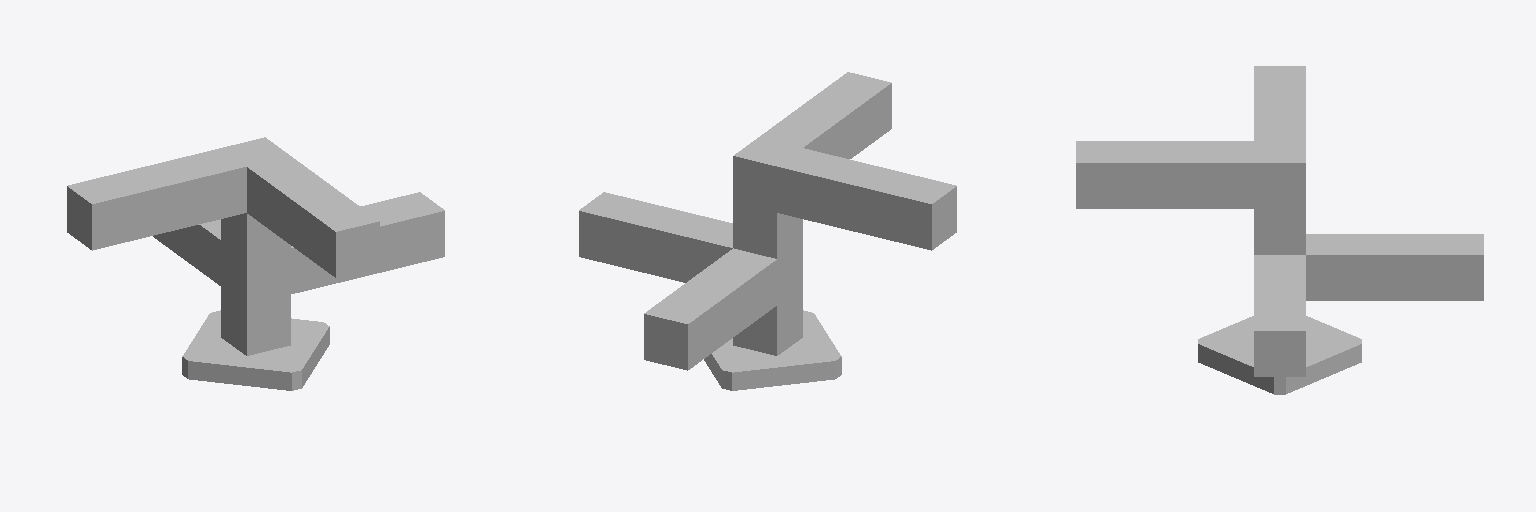
Rendered from obs0.obj.
The picture shows the model from 3 angles: view 1: azimuth 30°, elevation 25°; view 2: azimuth 150°, elevation 25°; view 3: azimuth 270°, elevation 25°; orthographic projection.
Visible parts, largest first — view 1: ob0_Cube.029; view 2: ob0_Cube.029; view 3: ob0_Cube.029.
Part boxes in pixels (x1,y1,x2,y2): ob0_Cube.029: (67, 137, 444, 390); ob0_Cube.029: (579, 72, 956, 390); ob0_Cube.029: (1076, 66, 1483, 394).
Size of the model in its own units: 2 by 1.12 by 2.